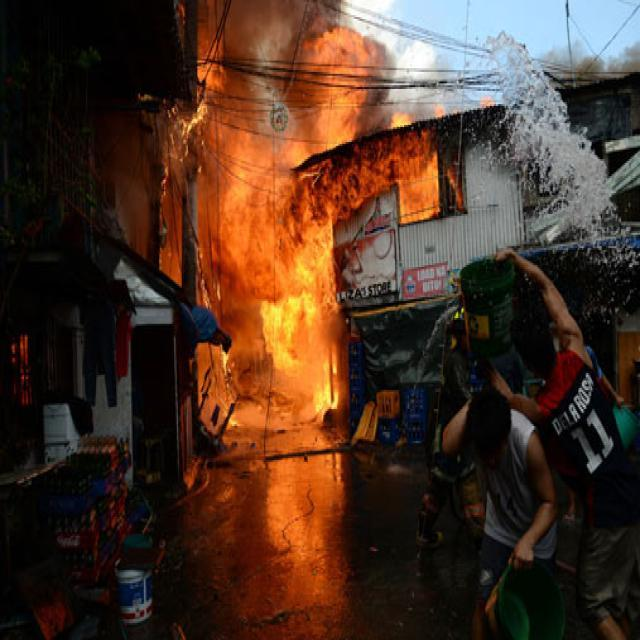Fire: (226, 186, 337, 428), (316, 153, 497, 242), (167, 90, 224, 319)
Smoke: (202, 5, 420, 142)
